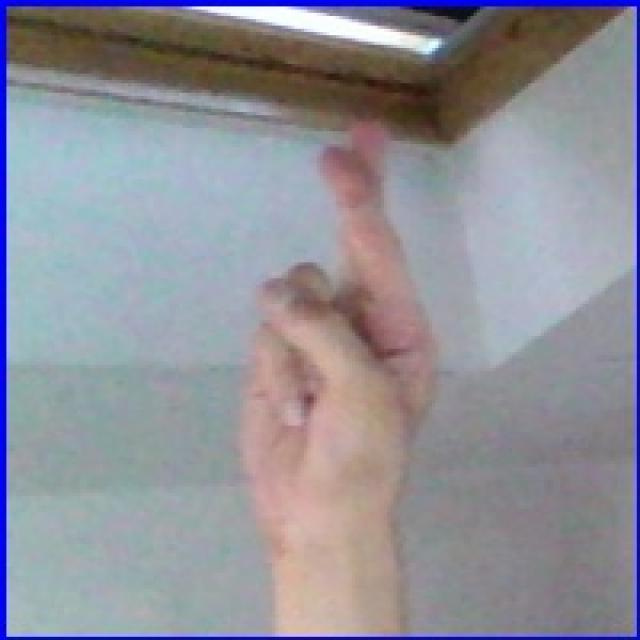Letra-R: (187, 98, 492, 559)
